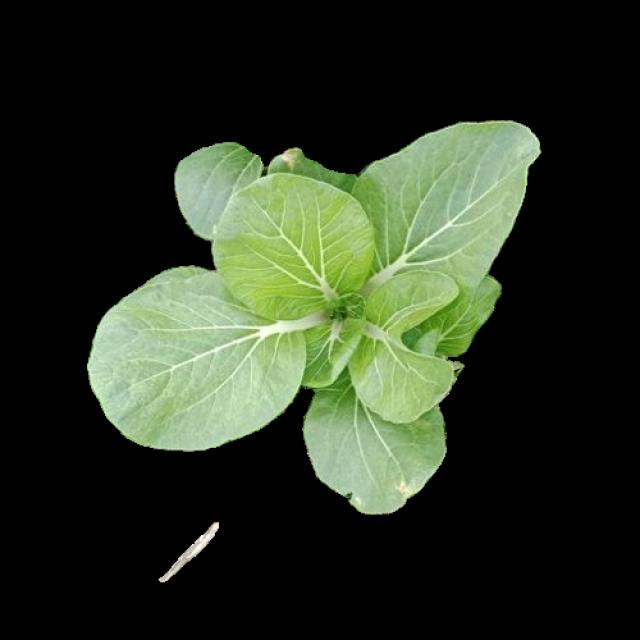mature: (89, 120, 539, 512)
unhealthy: (306, 362, 447, 517), (247, 120, 361, 197)
